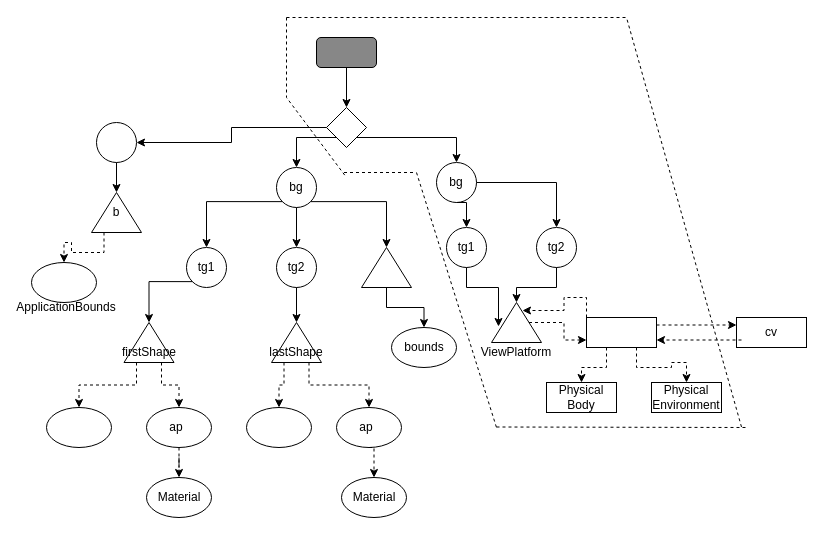
The diagram is 824 pixels wide and 535 high, and some of its shapes have lost their labels. Each missing label, with the centre of its shape:
"Jerome": (79,427)
"Larson": (279,427)
back: (116,142)
light: (386,267)
View: (621,332)
